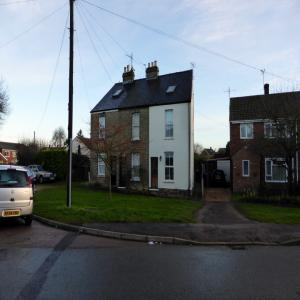Vehicle-registration-plate: (5, 211, 21, 218)
